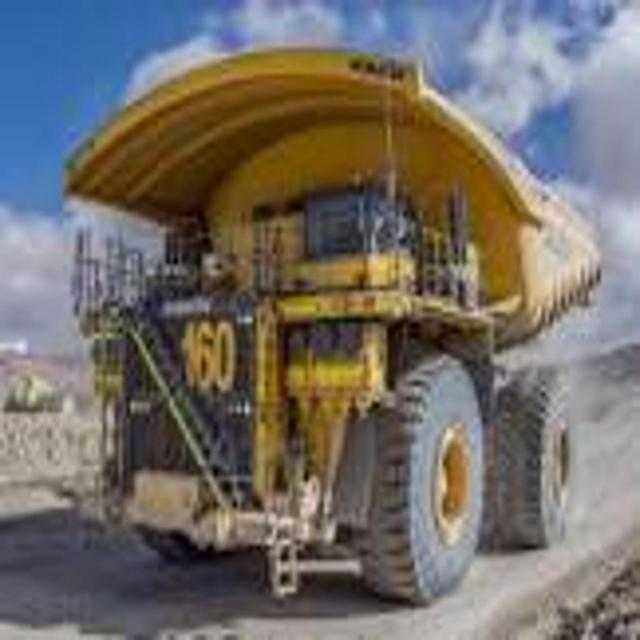dump_truck: (60, 12, 608, 608)
